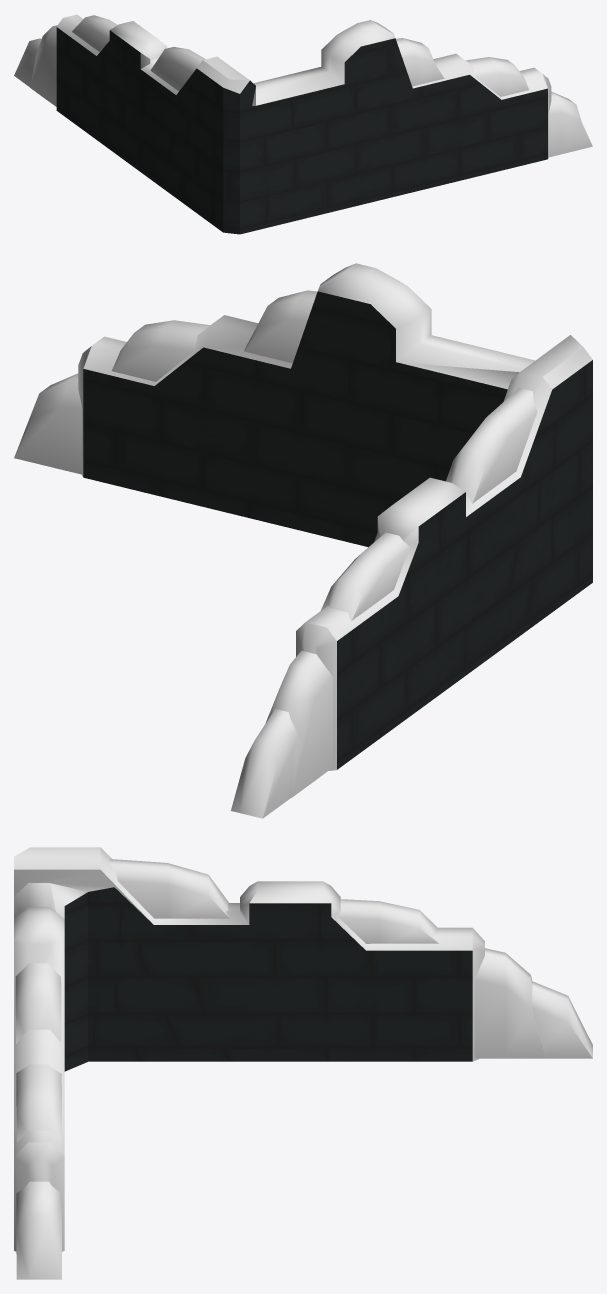
File: Coast Ruins Corner.fbx
The picture shows the model from 3 angles, top to bottom: view 1: azimuth 30°, elevation 25°; view 2: azimuth 150°, elevation 25°; view 3: azimuth 270°, elevation 25°; orthographic projection. The views are drawn at different scales.
Parts seen in each view (by area): view 1: Ruins Corner; view 2: Ruins Corner; view 3: Ruins Corner.
Part boxes in pixels (left/top/right/bottom): Ruins Corner: left=14, top=14, right=592, bottom=234; Ruins Corner: left=14, top=263, right=592, bottom=818; Ruins Corner: left=14, top=847, right=592, bottom=1279.
Bounding box in the file's own units: 1290 × 573 × 1337.
